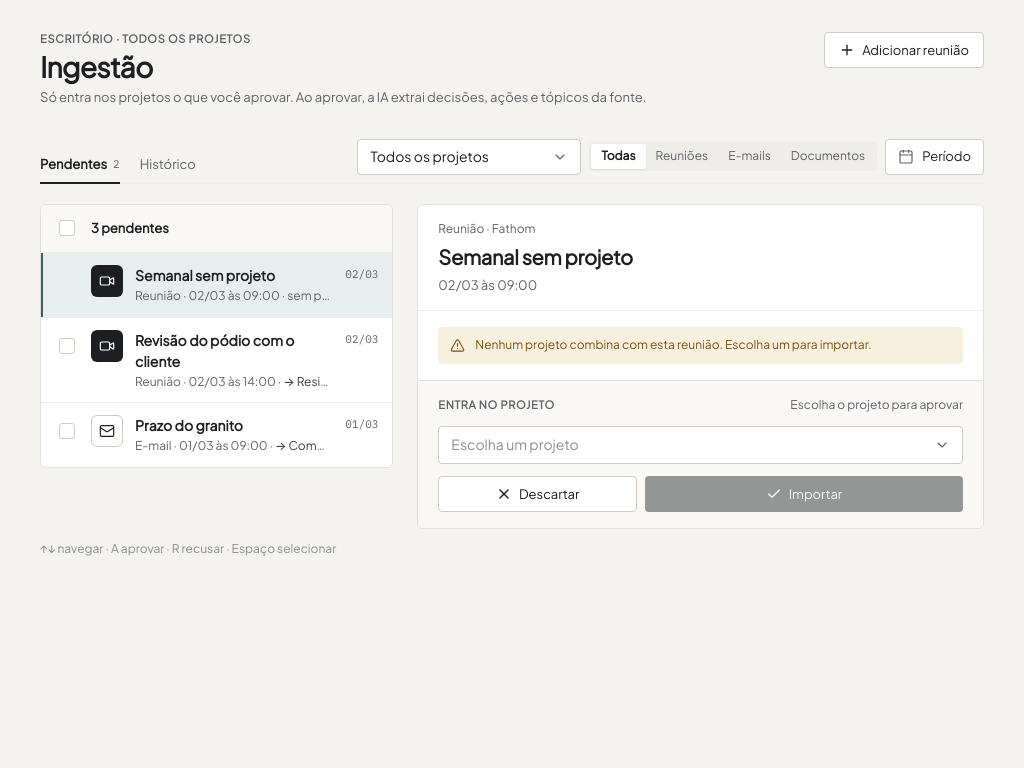
Test: Phase 3d · Ingestão › approves the selected sources in bulk
Expected: the option "Prazo do granito" is shown, x1=41 y1=403 x2=392 y2=467
Click the checkbox named "Selecionar todos": (67, 228) x1=55 y1=216 x2=79 y2=240
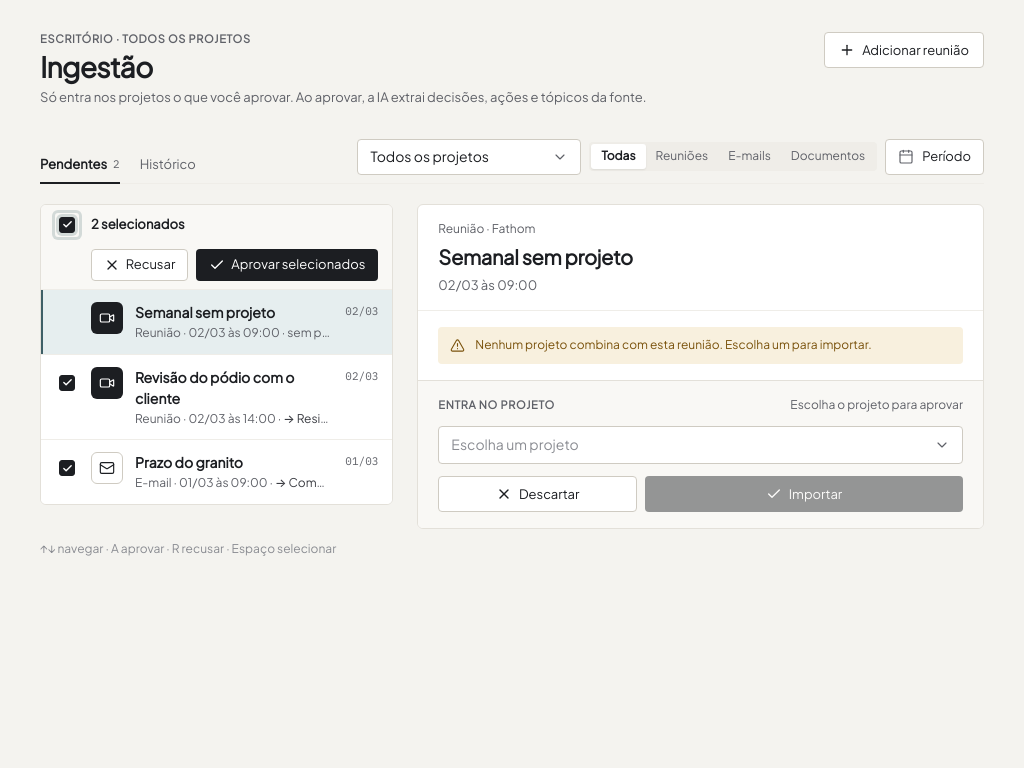
Expected: the text "2 selecionados" is shown, x1=91 y1=215 x2=185 y2=234
Click the button "Aprovar selecionados": (287, 265) x1=196 y1=249 x2=378 y2=281
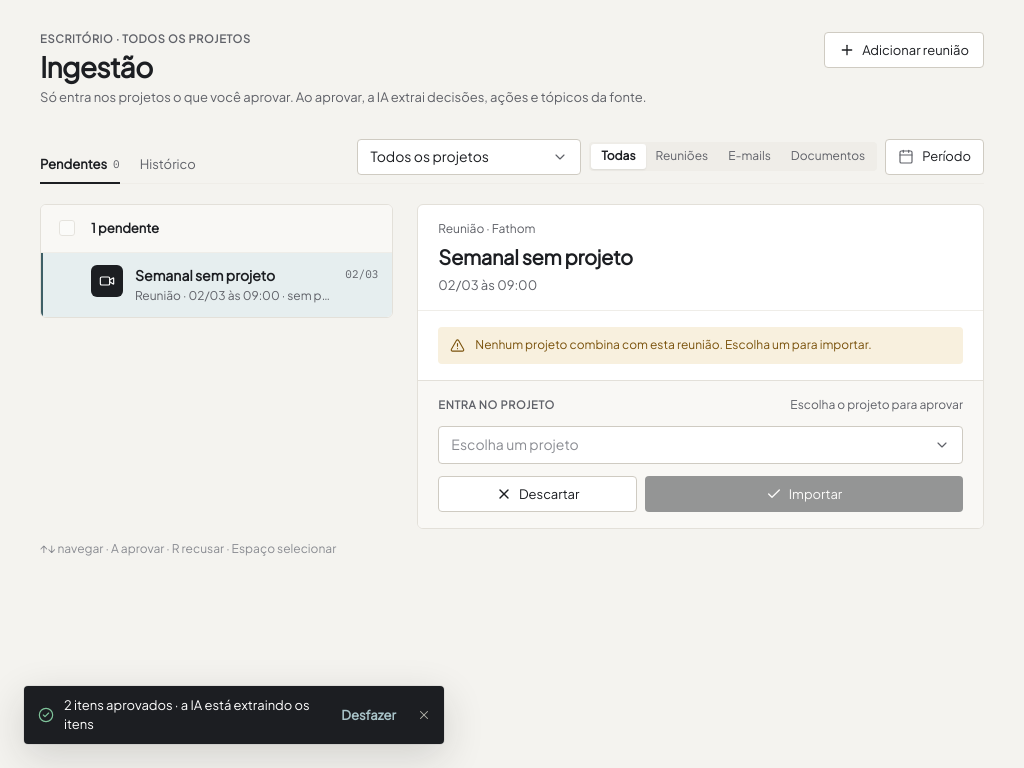
Expected: the text "2 itens aprovados · a IA está extraindo os itens" is shown, x1=64 y1=696 x2=325 y2=734
